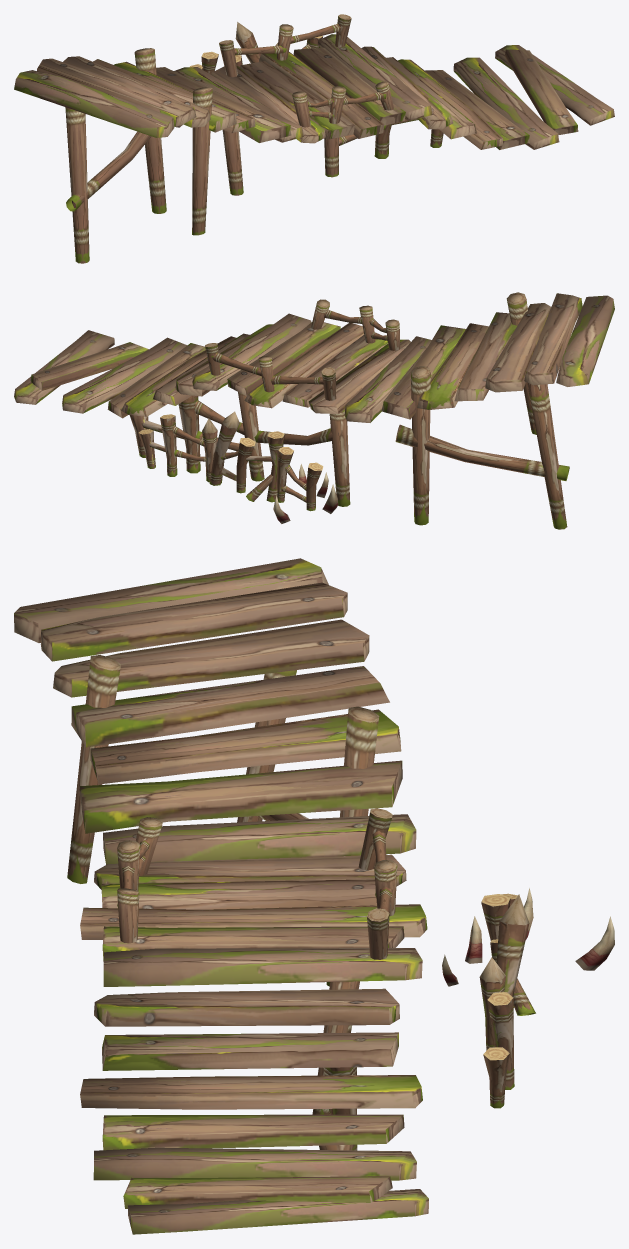
The model's file is Map_08_wooden12.FBX.
3 renders of one model, top to bottom at view 1: azimuth 30°, elevation 25°; view 2: azimuth 150°, elevation 25°; view 3: azimuth 270°, elevation 25°, orthographic. The views are drawn at different scales.
Parts seen in each view (by area): view 1: Map_08_wooden12; view 2: Map_08_wooden12; view 3: Map_08_wooden12.
Part boxes in pixels (x1=…): Map_08_wooden12: x1=14, y1=14, x2=614, y2=263; Map_08_wooden12: x1=14, y1=292, x2=614, y2=529; Map_08_wooden12: x1=14, y1=558, x2=614, y2=1234.
Size of the model in its own units: 296 by 93.92 by 167.
